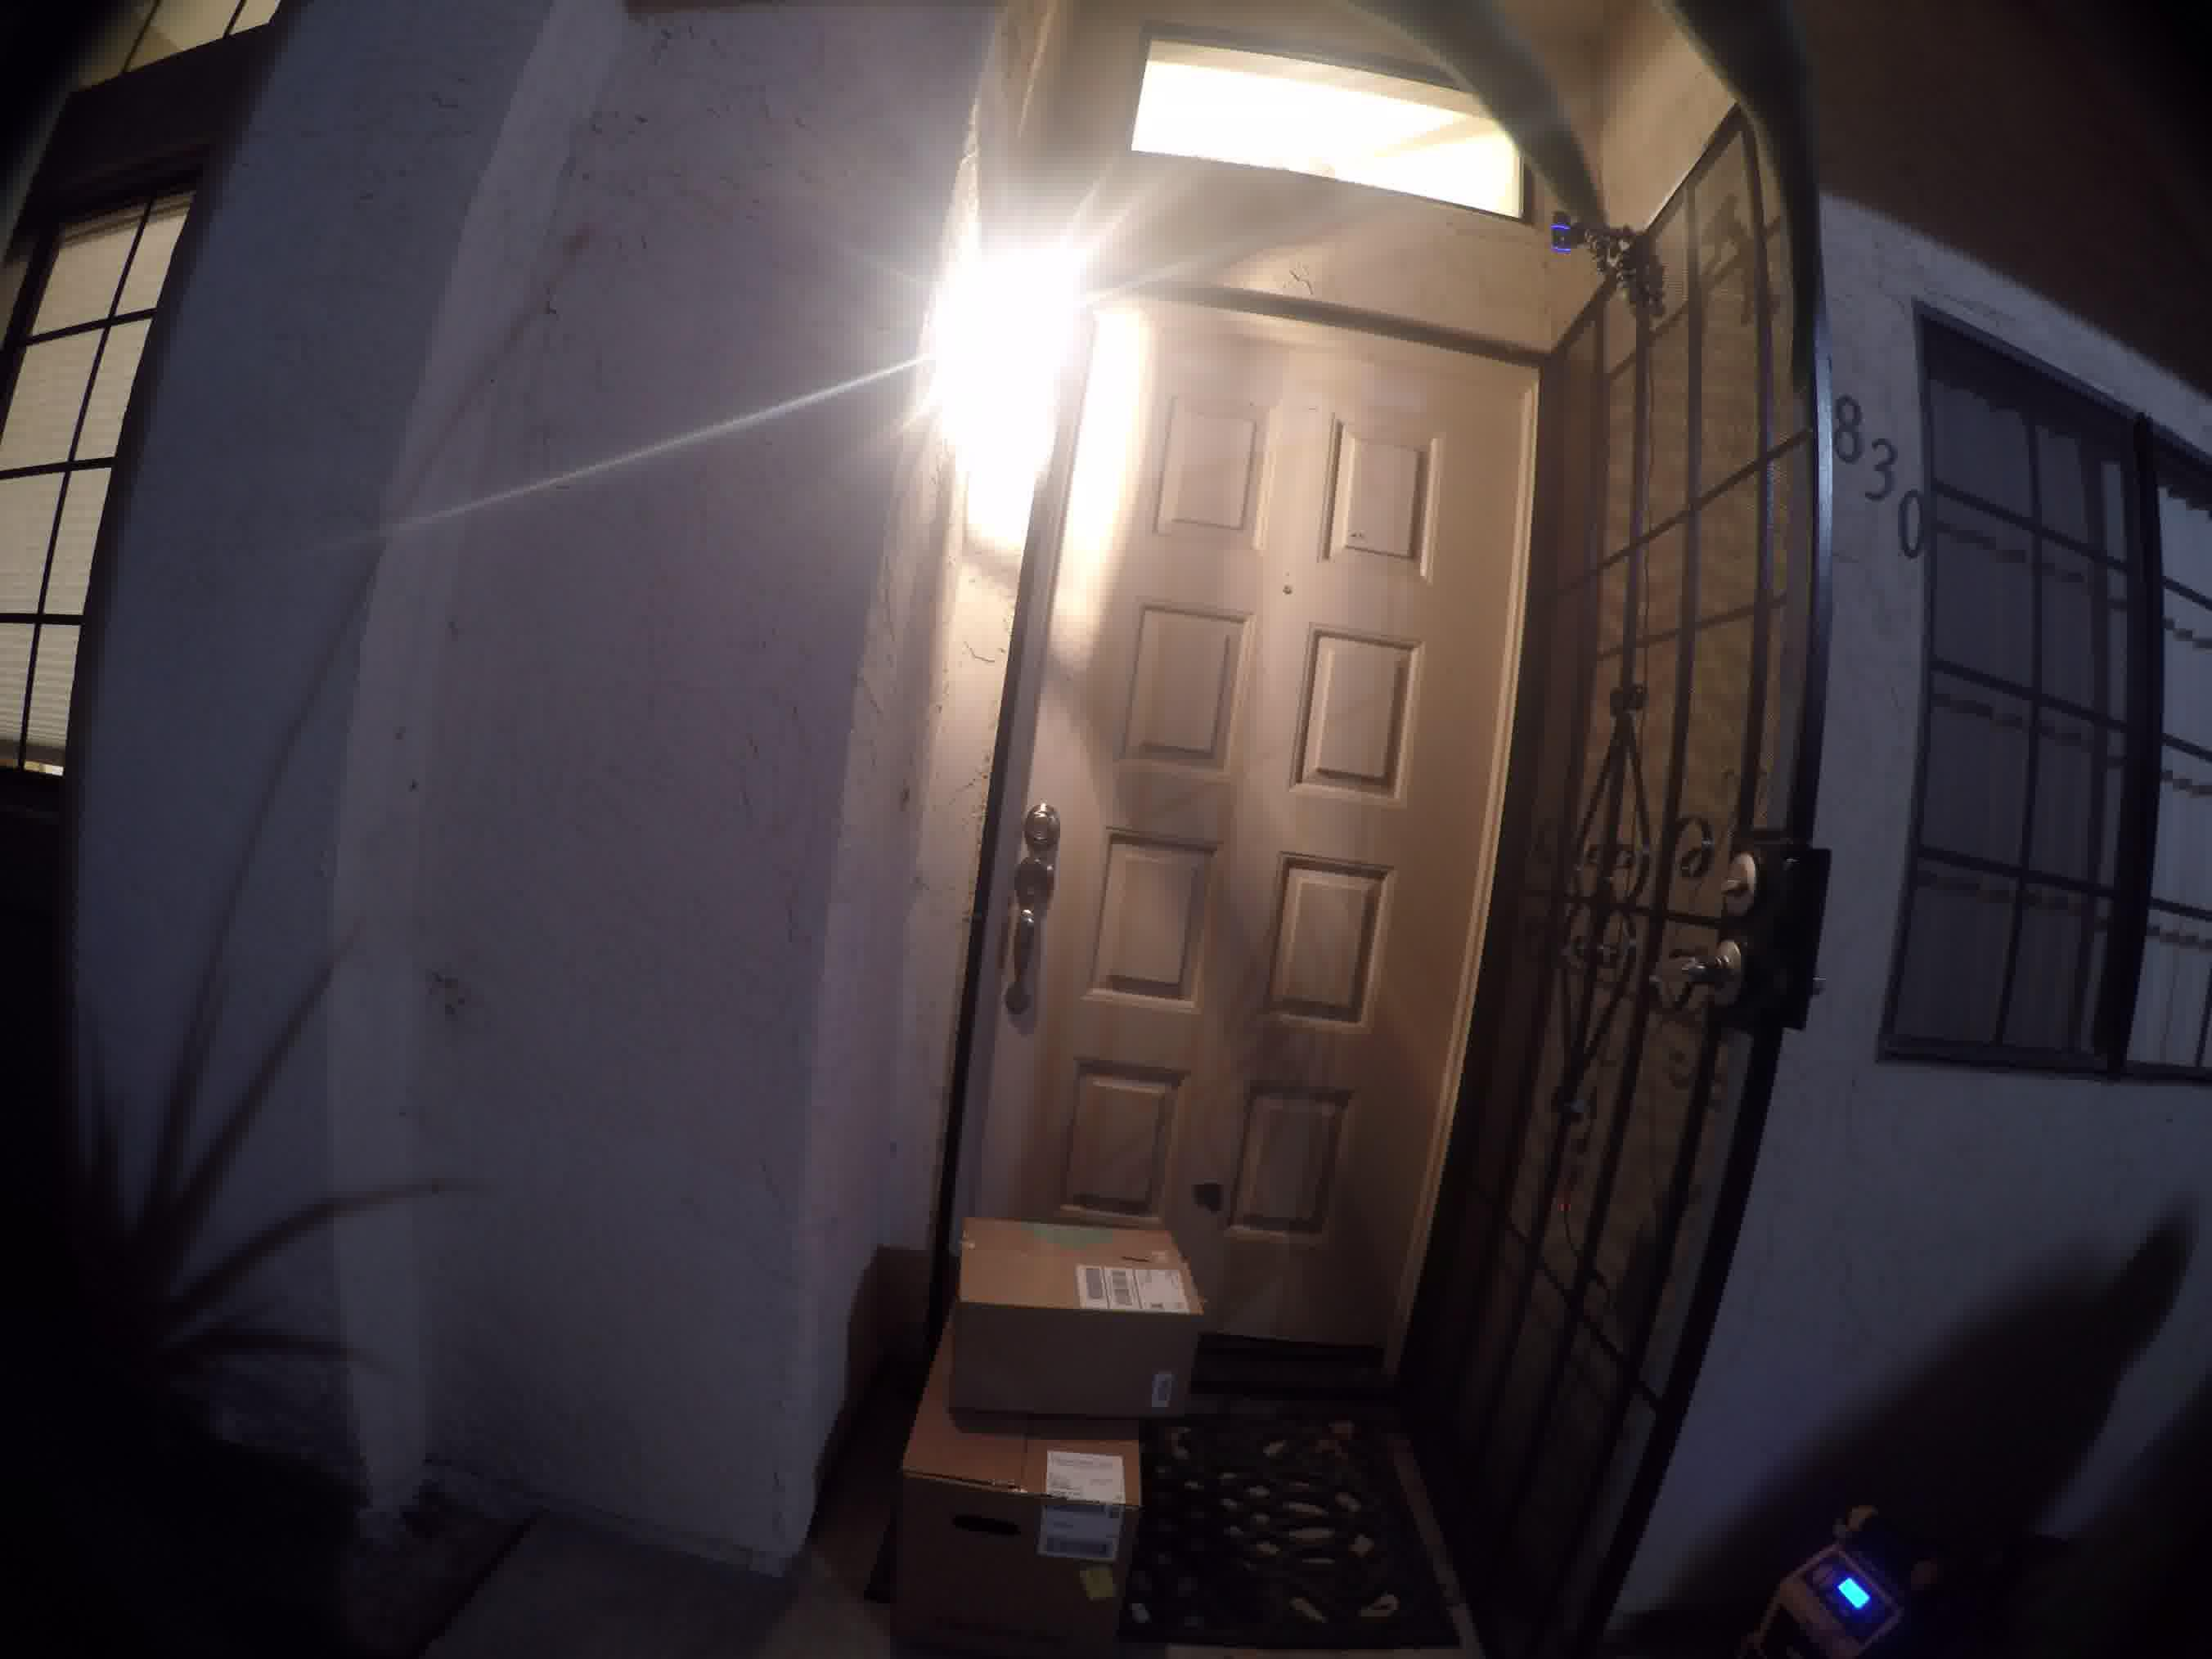box: (883, 1310, 1153, 1659), (942, 1213, 1209, 1427)
